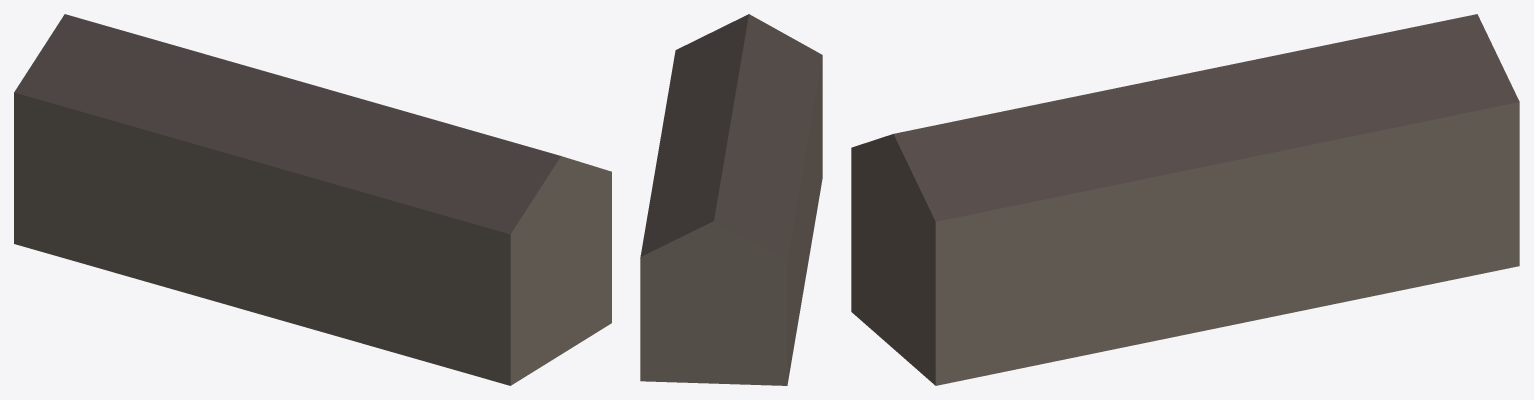
The picture shows the model from 3 angles, left to right: view 1: azimuth 30°, elevation 25°; view 2: azimuth 150°, elevation 25°; view 3: azimuth 270°, elevation 25°; orthographic projection. The views are drawn at different scales.
Visible parts, largest first — view 1: HP-w369237962; view 2: HP-w369237962; view 3: HP-w369237962.
Part boxes in pixels (<box>): HP-w369237962: <box>14,14,611,385</box>; HP-w369237962: <box>640,14,822,385</box>; HP-w369237962: <box>851,14,1519,385</box>.
Size of the model in its own units: 22.83 by 11.8 by 33.24.
